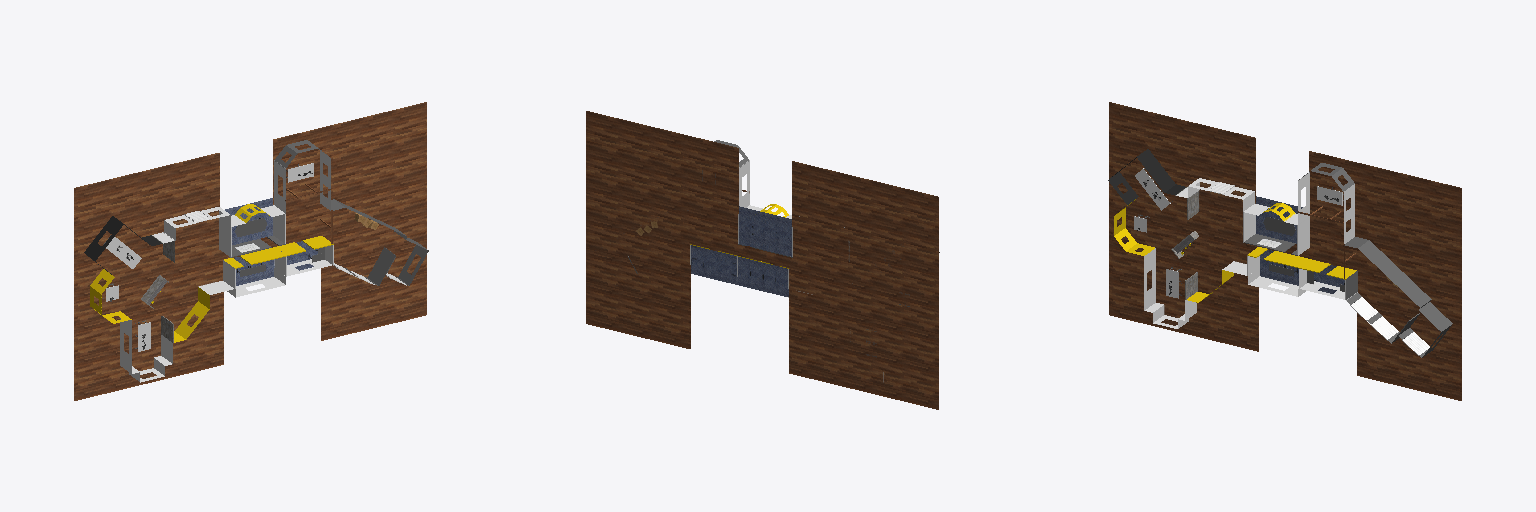
3 views of the same model, side by side, from view 1: azimuth 30°, elevation 25°; view 2: azimuth 150°, elevation 25°; view 3: azimuth 330°, elevation 25° (orthographic).
Visible parts, largest first — view 1: b_a.001; view 2: b_a.001; view 3: b_a.001.
Boxes of the visible parts, x1,y1,x2,y2 form: b_a.001: [74, 102, 428, 400]; b_a.001: [586, 111, 939, 409]; b_a.001: [1108, 102, 1461, 400].
Bounding box in the file's own units: 44.01 × 25.45 × 2.52.
1 materials, 1 textured.